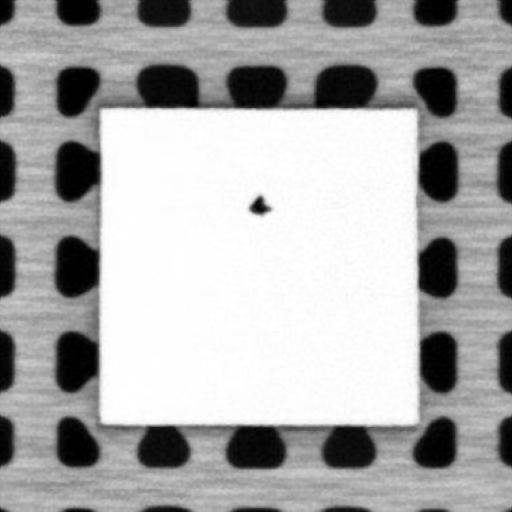DIE_INK: (245, 191, 272, 216)
